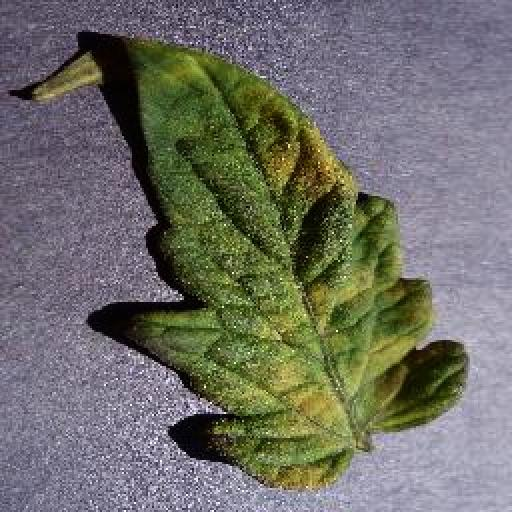disease_tomato: (131, 34, 471, 492)
